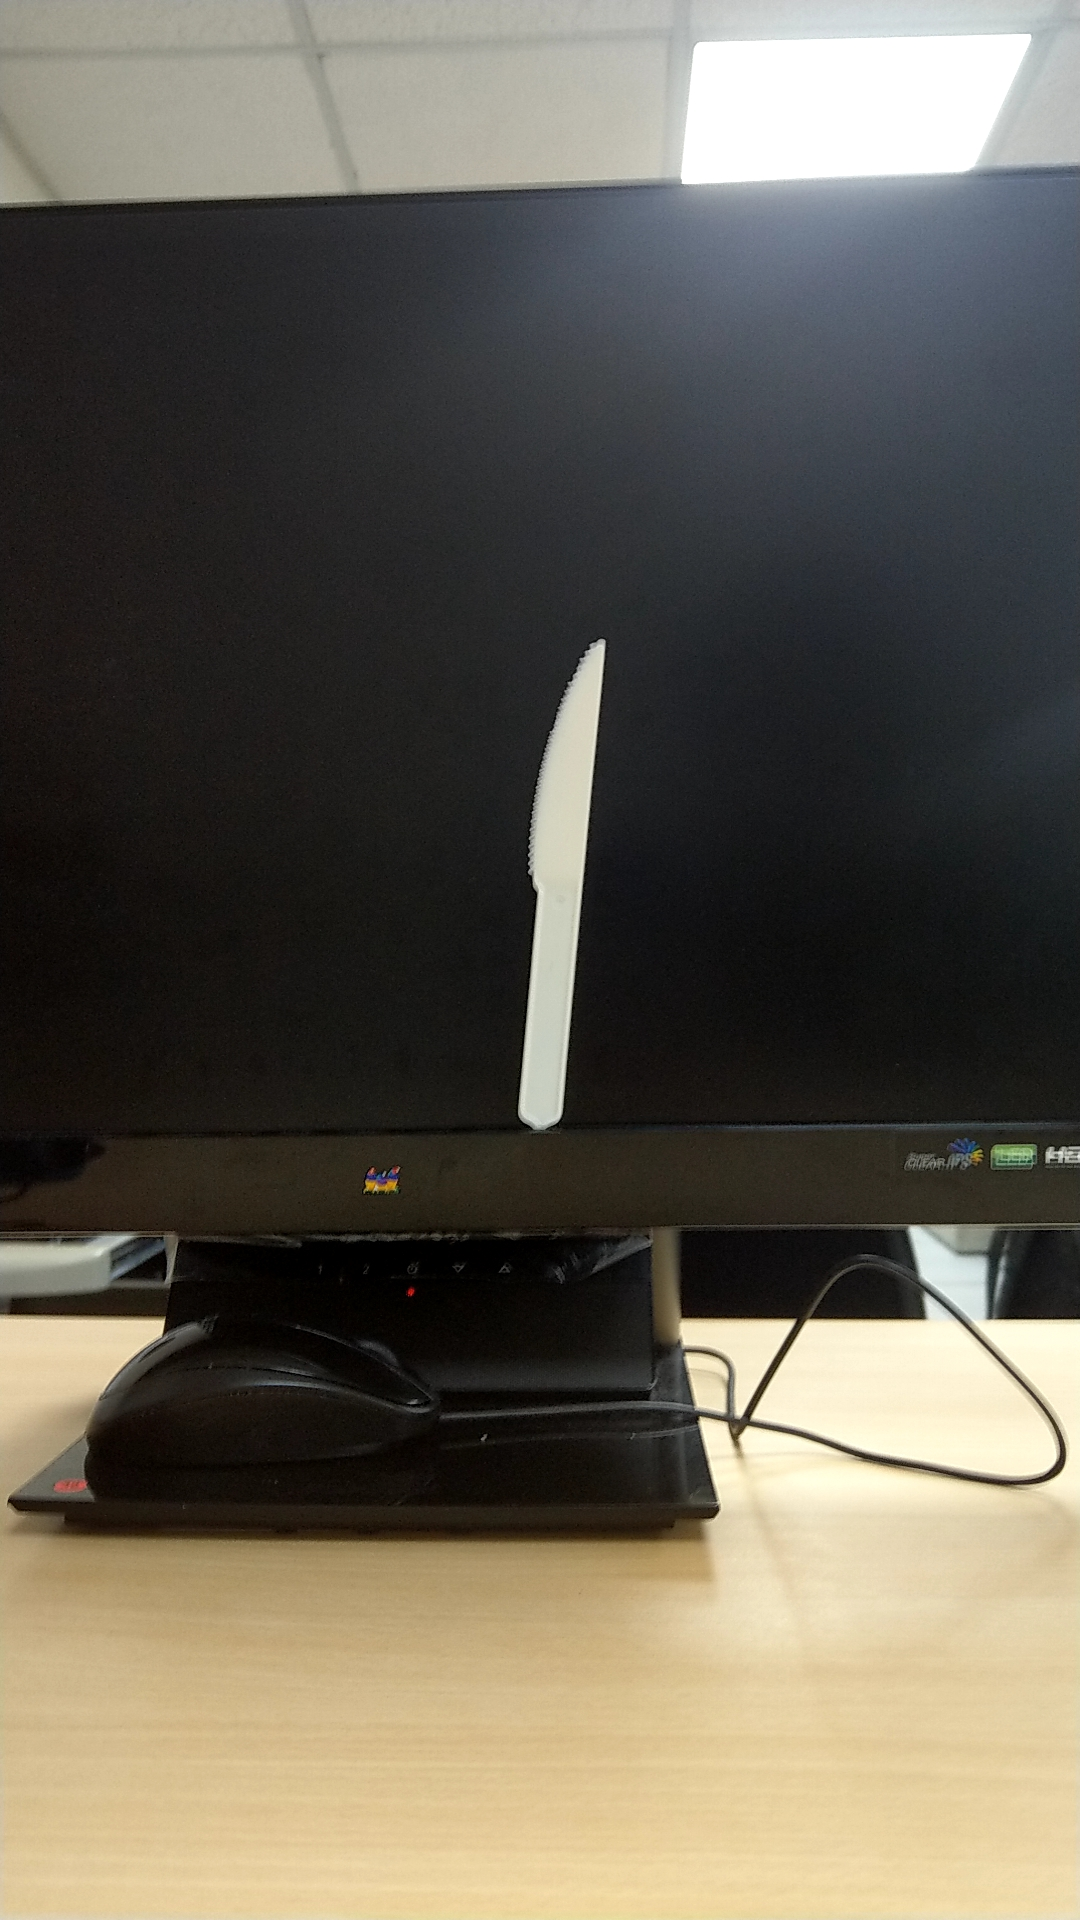knife: (512, 615, 620, 1131)
